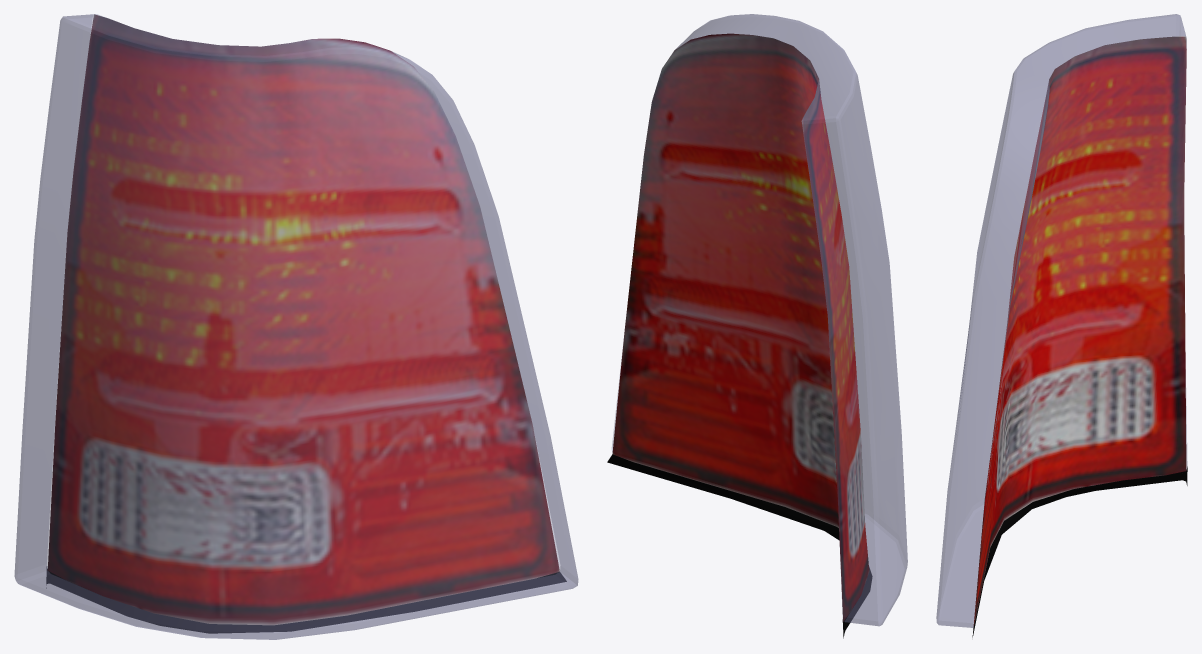
3 views of the same model, side by side, from view 1: azimuth 30°, elevation 25°; view 2: azimuth 150°, elevation 25°; view 3: azimuth 270°, elevation 25° (orthographic). The views are drawn at different scales.
Visible parts, largest first — view 1: P845_541C_R_1_DTaSI_P845_541C_R, P845_541C_R_P845_541C_R_2_N, P845_541C_R_P845_541C_R_3_D; view 2: P845_541C_R_P845_541C_R_2_N, P845_541C_R_1_DTaSI_P845_541C_R, P845_541C_R_P845_541C_R_3_D; view 3: P845_541C_R_P845_541C_R_2_N, P845_541C_R_1_DTaSI_P845_541C_R, P845_541C_R_P845_541C_R_3_D.
Boxes of the visible parts, x1,y1,x2,y2 form: P845_541C_R_1_DTaSI_P845_541C_R: (14, 14, 578, 639); P845_541C_R_P845_541C_R_2_N: (47, 14, 559, 625); P845_541C_R_P845_541C_R_3_D: (46, 568, 566, 633); P845_541C_R_P845_541C_R_2_N: (612, 33, 869, 621); P845_541C_R_1_DTaSI_P845_541C_R: (612, 14, 907, 626); P845_541C_R_P845_541C_R_3_D: (607, 454, 872, 638); P845_541C_R_P845_541C_R_2_N: (973, 36, 1186, 625); P845_541C_R_1_DTaSI_P845_541C_R: (936, 14, 1187, 627); P845_541C_R_P845_541C_R_3_D: (972, 466, 1187, 637).
Size of the model in its own units: 25.78 by 33.05 by 15.73.
